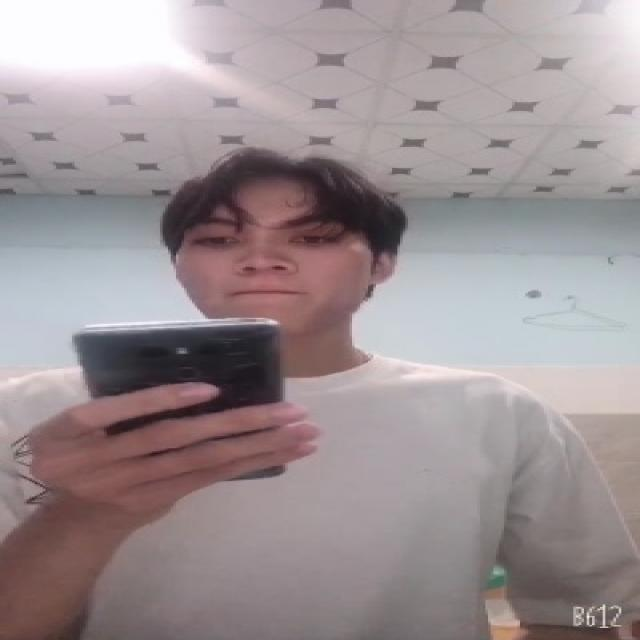Phone: (72, 320, 296, 483)
